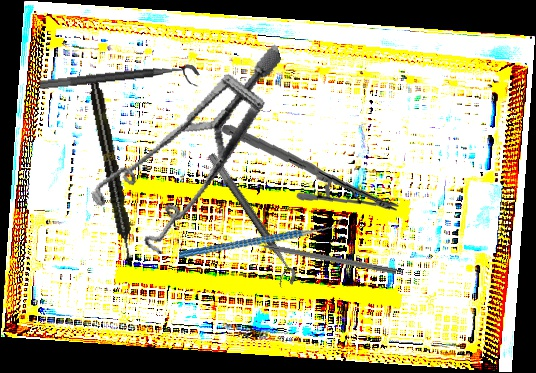Chopper: (178, 191, 344, 282)
Fixation Ring: (197, 151, 301, 292), (39, 62, 201, 104)
Handpiece: (85, 77, 137, 260)
Hook Surgical: (238, 236, 398, 276)
Needle Holder: (220, 113, 400, 223)
Speculum: (66, 43, 322, 268)
